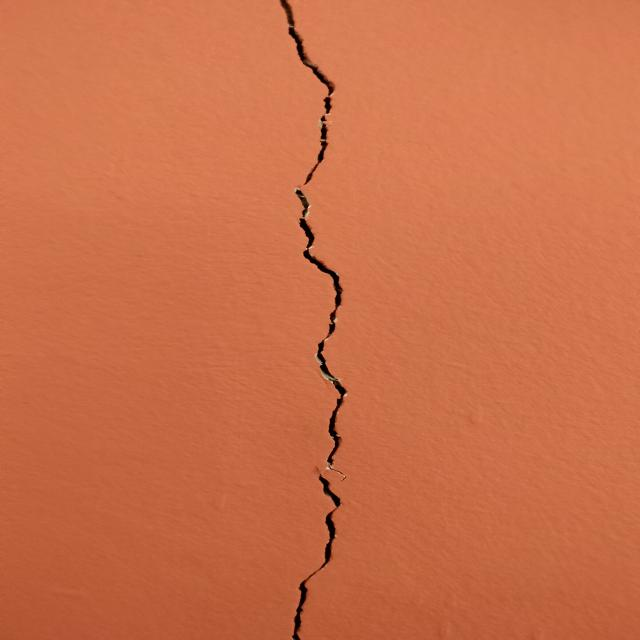Crack: (258, 1, 369, 640)
